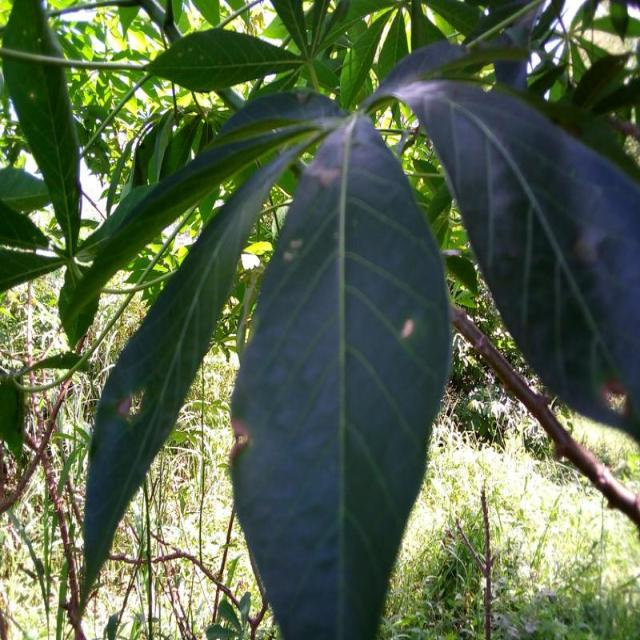cassava leaf: (75, 88, 348, 616), (227, 112, 453, 638), (359, 45, 639, 440)
